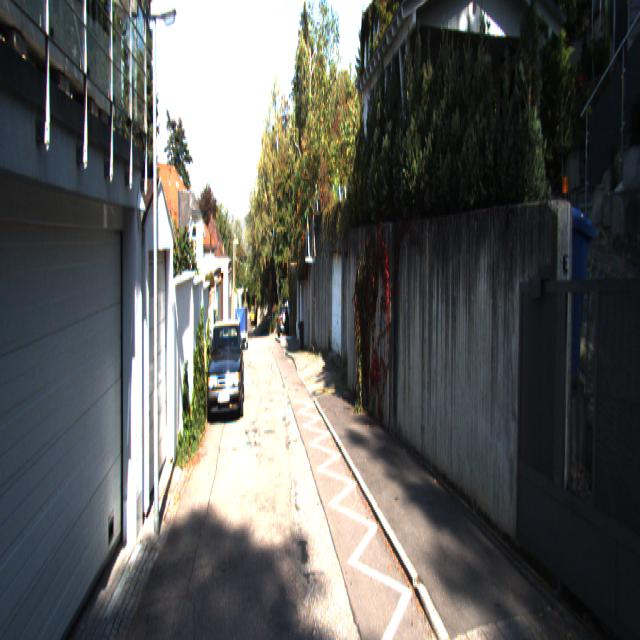Car: (206, 318, 245, 427), (235, 306, 248, 352)
